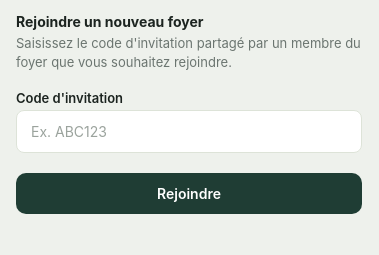
Test: refuse la soumission sans code
The width and height of the screenshot is (379, 255).
Click the element with test id "join-household-submit": x=189, y=194 [16,173,362,214]
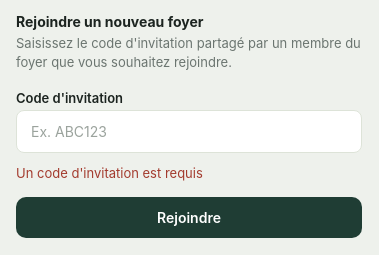
Check: the text "Un code d'invitation est requis" is shown, box [16,165,203,181]
